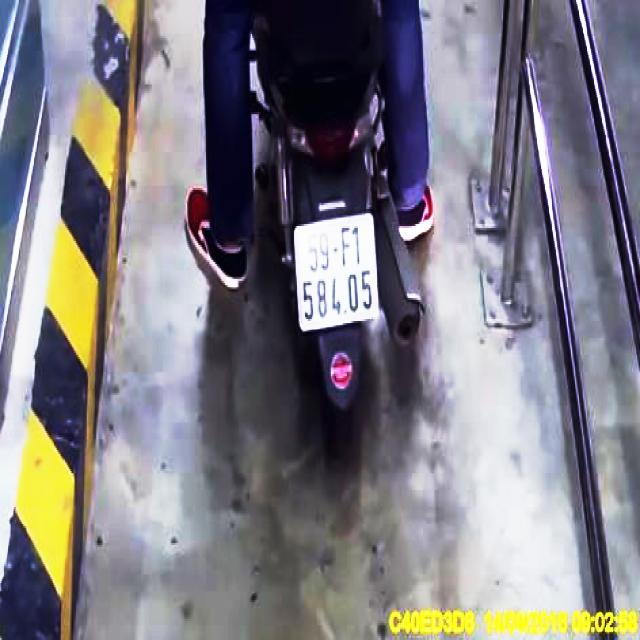license_plate: (296, 216, 379, 331)
